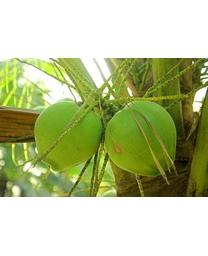coconut: (106, 100, 177, 175), (31, 100, 103, 169)
